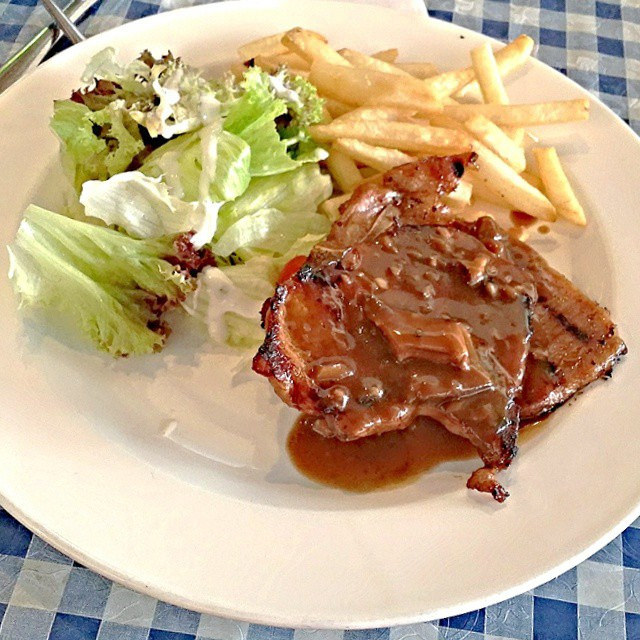chopped lettuce: (124, 105, 303, 247)
